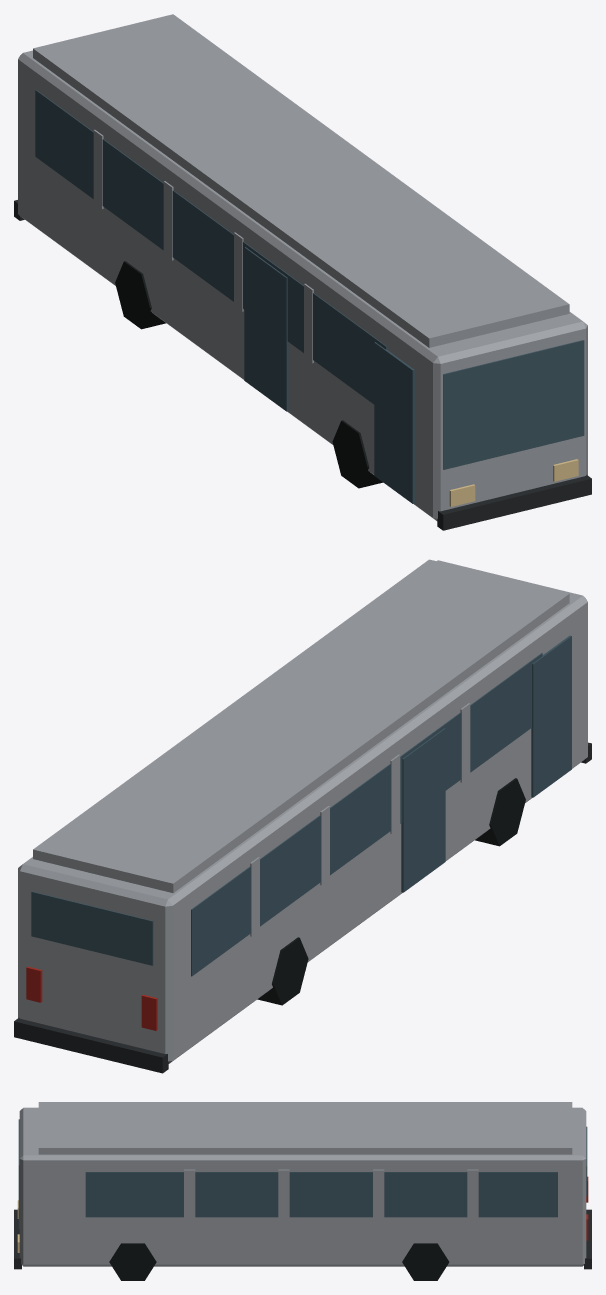
Rendered from bus-ambient.high.dcf5b900.glb.
The picture shows the model from 3 angles, top to bottom: view 1: azimuth 30°, elevation 25°; view 2: azimuth 150°, elevation 25°; view 3: azimuth 270°, elevation 25°; orthographic projection. The views are drawn at different scales.
Parts seen in each view (by area): view 1: bus-ambient; view 2: bus-ambient; view 3: bus-ambient.
Boxes of the visible parts, bbox=[...] form: bus-ambient: bbox=[14, 14, 591, 530]; bus-ambient: bbox=[14, 559, 591, 1073]; bus-ambient: bbox=[14, 1102, 591, 1280].
Bounding box in the file's own units: 2.61 × 3.03 × 12.24.
